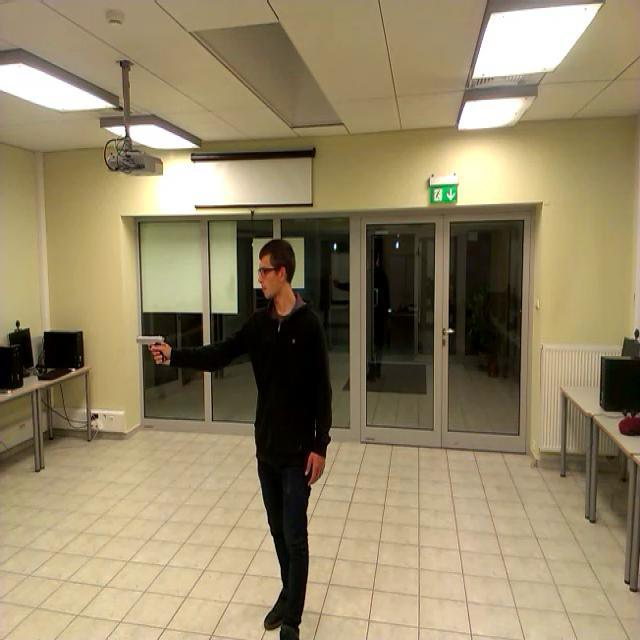Gun: (135, 334, 167, 362)
